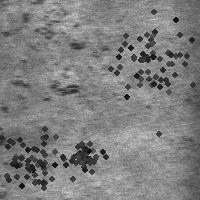rolled-in_scale: (93, 2, 200, 120), (0, 104, 84, 200), (4, 3, 81, 65), (2, 72, 81, 112), (58, 131, 104, 177)
